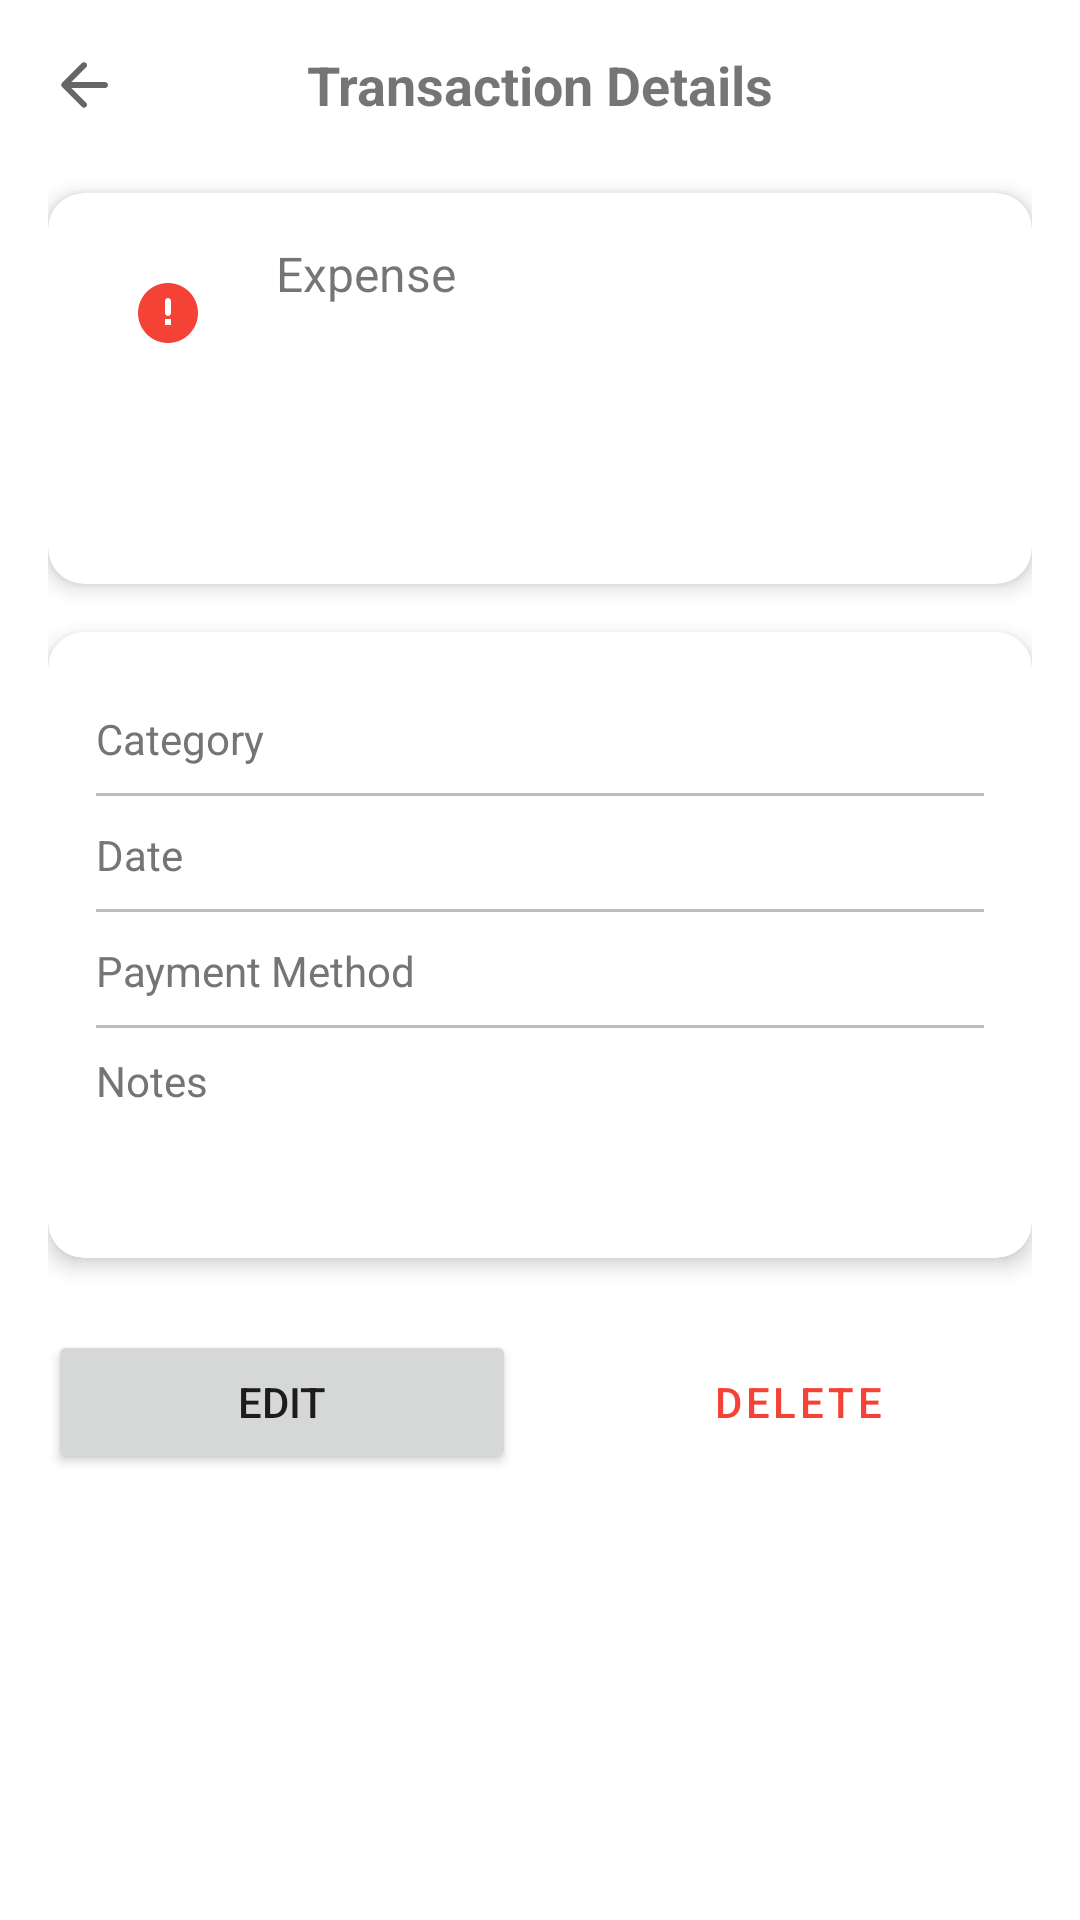

Named icons in this screenshot (1080 x 1920) and their centers, (x,y):
back: (84,85)
